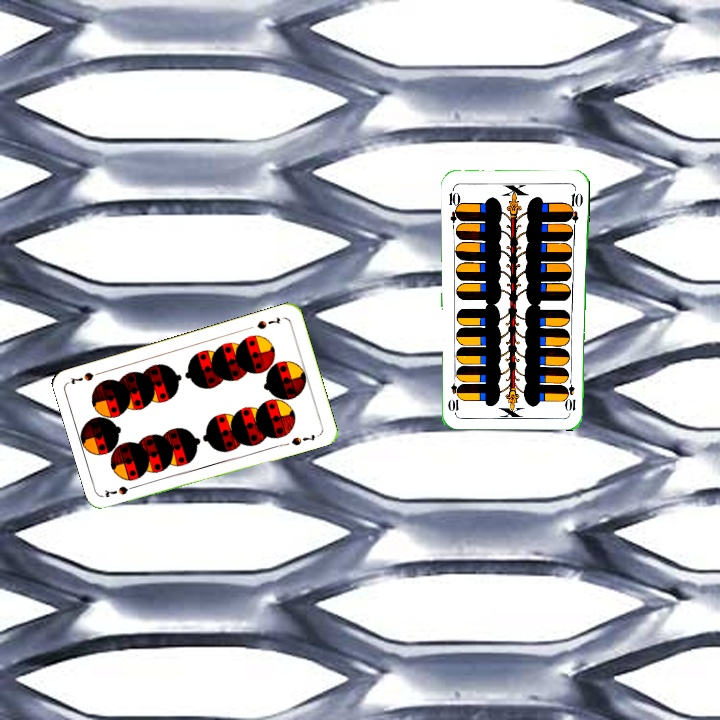E10: (444, 185, 463, 225), (565, 373, 578, 413)
S7: (101, 481, 141, 500), (253, 313, 283, 332)
